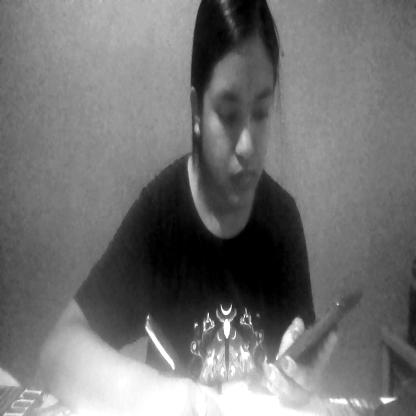Distracted: (190, 7, 300, 242)
